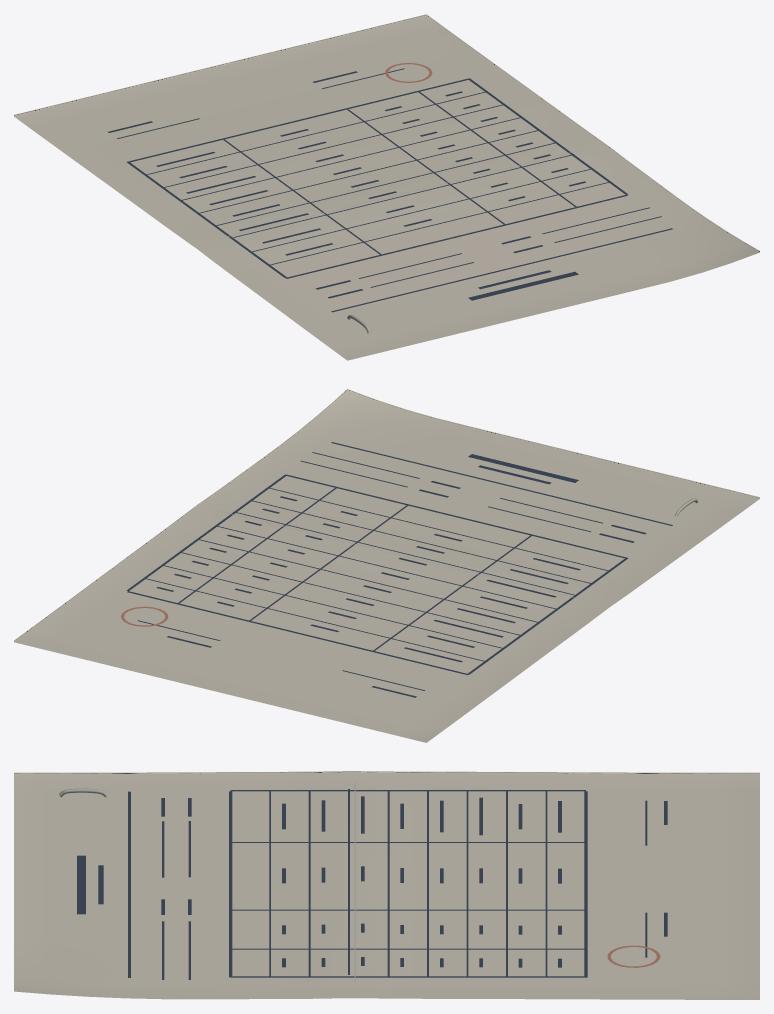
Rendered from ch1-report-card.glb.
The picture shows the model from 3 angles, top to bottom: view 1: azimuth 30°, elevation 25°; view 2: azimuth 150°, elevation 25°; view 3: azimuth 270°, elevation 25°; orthographic projection. The views are drawn at different scales.
Parts seen in each view (by area): view 1: report-card-paper, report-card-print; view 2: report-card-paper, report-card-print; view 3: report-card-paper, report-card-print, report-card-crease.
Part boxes in pixels (<box>): report-card-paper: <box>14,14,759,360</box>; report-card-print: <box>108,68,672,312</box>; report-card-paper: <box>14,389,759,742</box>; report-card-print: <box>127,442,672,697</box>; report-card-paper: <box>14,771,759,999</box>; report-card-print: <box>77,789,667,979</box>; report-card-crease: <box>354,781,355,982</box>.
Bounding box in the file's own units: 0.3 × 0.00641 × 0.42.
